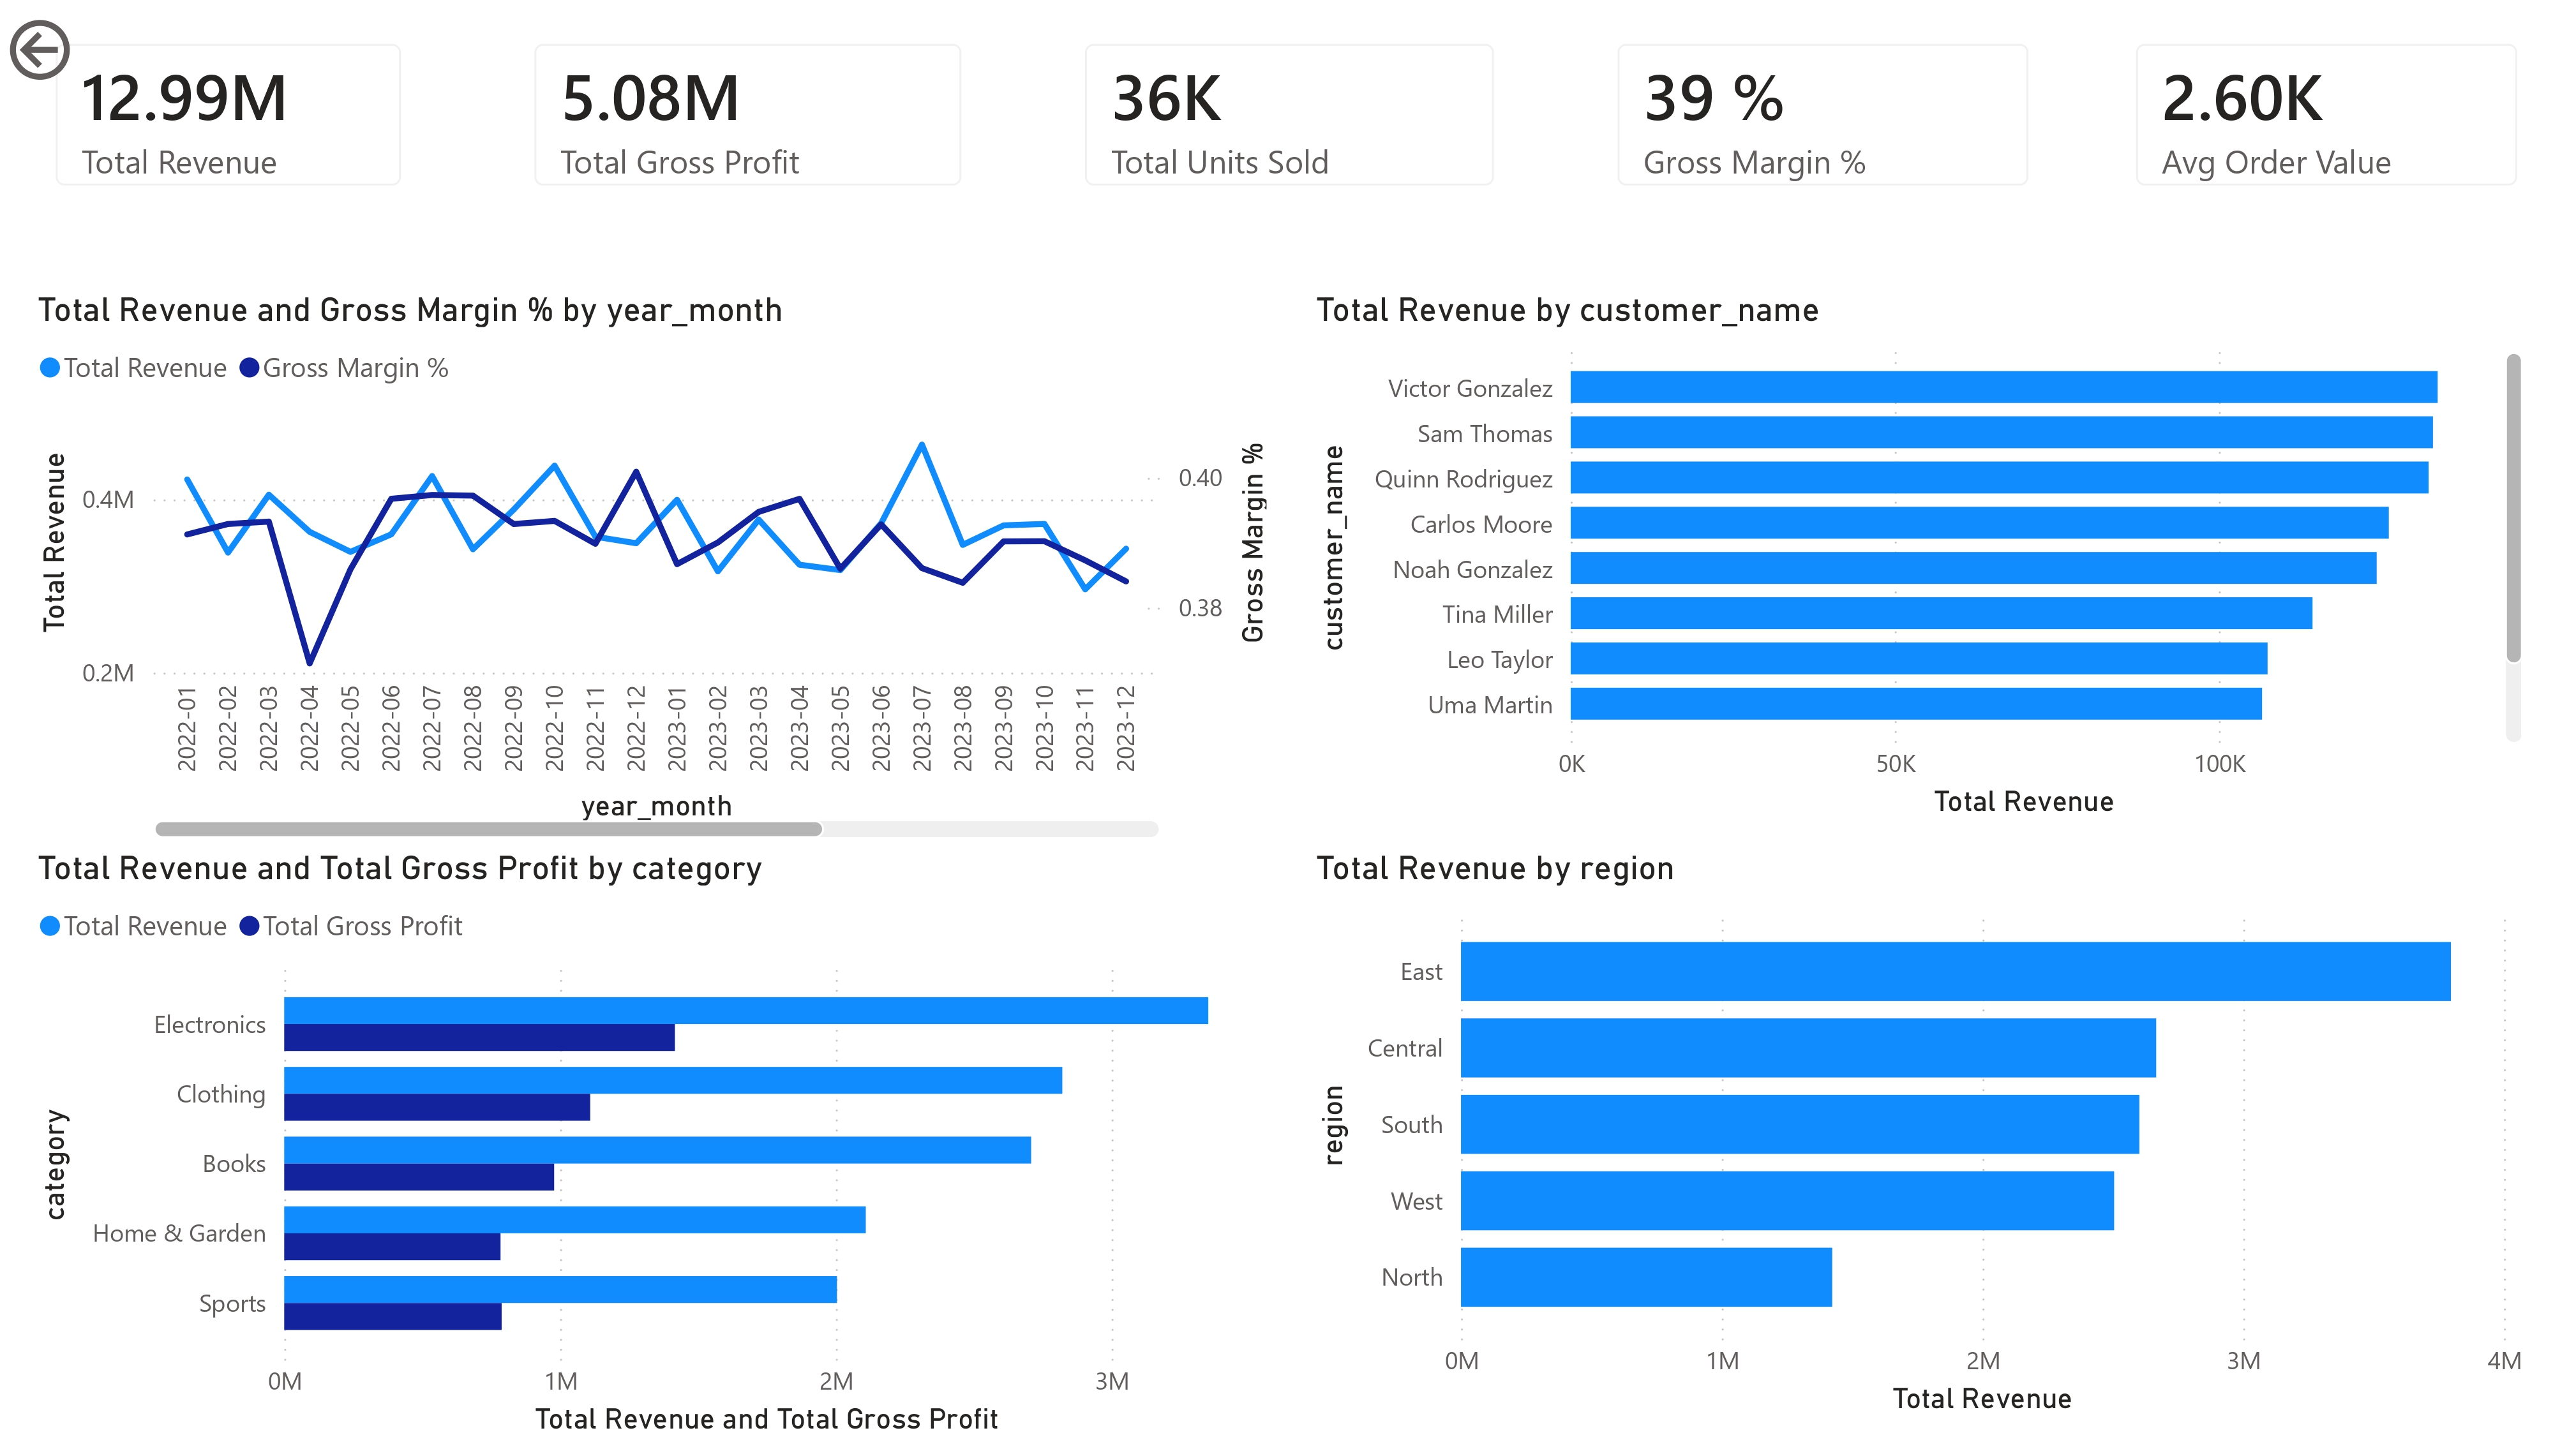

What the dashboard file says about the page in this screenshot:
{"tool":"powerbi","page":{"name":"Retail Sales Dashboard","canvas":[1280,720],"ordinal":0},"visuals":[{"type":"cardVisual","fields":{"Data":["marts_marts fact_sales.Total Revenue"]},"box":[10.5,0,207.8,105.4],"z":0},{"type":"cardVisual","fields":{"Data":["marts_marts fact_sales.Total Gross Profit"]},"box":[251.5,0,248.5,105.4],"z":1},{"type":"cardVisual","fields":{"Data":["marts_marts fact_sales.Total Units Sold"]},"box":[527.1,0,239.4,105.4],"z":2},{"type":"actionButton","box":[0,0,100,40],"z":3},{"type":"cardVisual","fields":{"Data":["marts_marts fact_sales.Gross Margin %"]},"box":[793.6,0,240.9,105.4],"z":4},{"type":"cardVisual","fields":{"Data":["marts_marts fact_sales.Avg Order Value"]},"box":[1054.1,0,225.9,105.4],"z":5},{"type":"lineChart","fields":{"Category":["marts_marts dim_date.year_month"],"Y":["marts_marts fact_sales.Total Revenue"],"Y2":["marts_marts fact_sales.Gross Margin %"]},"box":[13.6,140.1,626.5,280.1],"z":6},{"type":"clusteredBarChart","fields":{"Category":["marts_marts dim_customer.customer_name"],"Y":["marts_marts fact_sales.Total Revenue"]},"box":[655.1,140.1,614.4,269.6],"z":7},{"type":"clusteredBarChart","fields":{"Category":["marts_marts dim_product.category"],"Y":["marts_marts fact_sales.Total Revenue","marts_marts fact_sales.Total Gross Profit"]},"box":[13.6,420.1,626.5,299.7],"z":8},{"type":"clusteredBarChart","fields":{"Category":["marts_marts dim_store.region"],"Y":["marts_marts fact_sales.Total Revenue"]},"box":[655.1,420.1,614.4,289.1],"z":9}]}

Visuals, with their boxes in screenshot pixels (x1, y1, x2, y2), scaled from the page's 1280x720 canvas onto the 2553x1456 screenshot:
cardVisual - marts_marts fact_sales.Total Revenue: x1=21 y1=0 x2=435 y2=213
cardVisual - marts_marts fact_sales.Total Gross Profit: x1=502 y1=0 x2=997 y2=213
cardVisual - marts_marts fact_sales.Total Units Sold: x1=1051 y1=0 x2=1529 y2=213
actionButton: x1=0 y1=0 x2=199 y2=81
cardVisual - marts_marts fact_sales.Gross Margin %: x1=1583 y1=0 x2=2063 y2=213
cardVisual - marts_marts fact_sales.Avg Order Value: x1=2102 y1=0 x2=2552 y2=213
lineChart - marts_marts dim_date.year_month x marts_marts fact_sales.Total Revenue: x1=27 y1=283 x2=1276 y2=850
clusteredBarChart - marts_marts dim_customer.customer_name x marts_marts fact_sales.Total Revenue: x1=1306 y1=283 x2=2532 y2=829
clusteredBarChart - marts_marts dim_product.category x marts_marts fact_sales.Total Revenue: x1=27 y1=849 x2=1276 y2=1455
clusteredBarChart - marts_marts dim_store.region x marts_marts fact_sales.Total Revenue: x1=1306 y1=849 x2=2532 y2=1434
